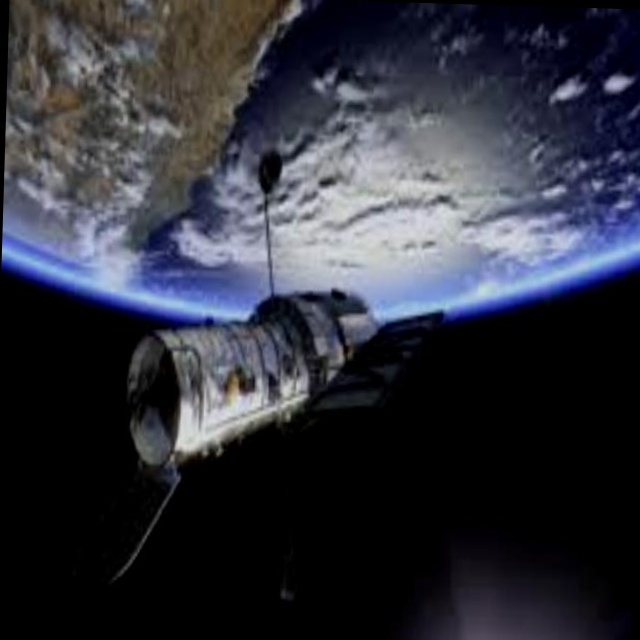satellite: (66, 137, 461, 610)
